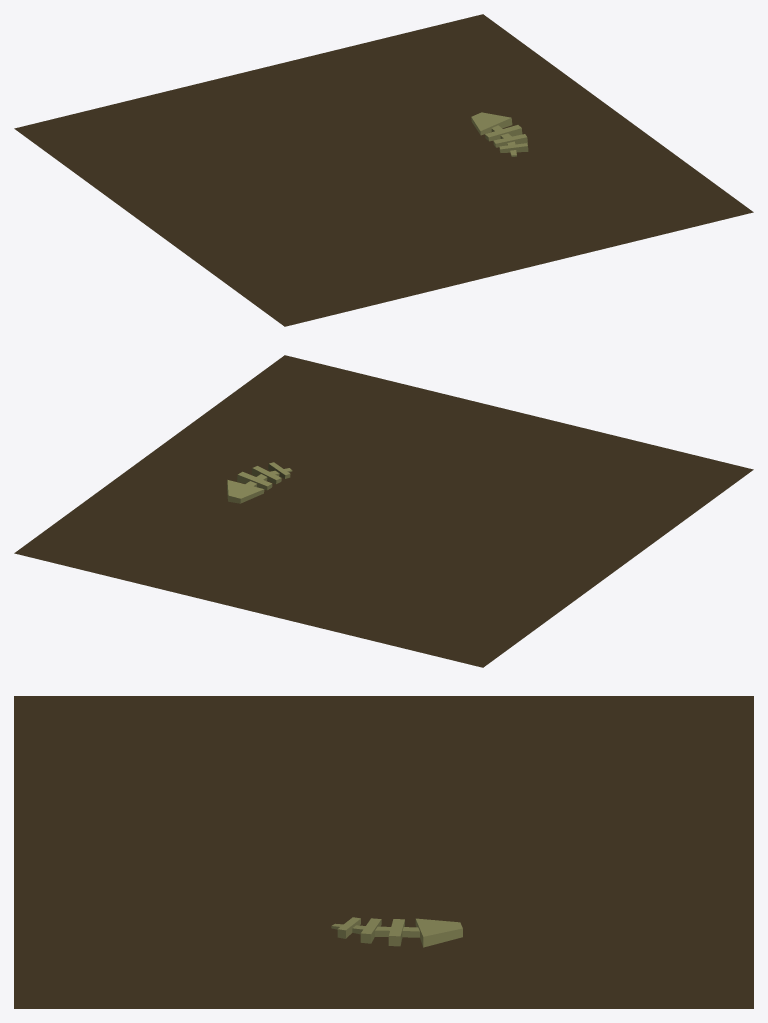
The model's file is Floor.011.fbx.
The picture shows the model from 3 angles, top to bottom: view 1: azimuth 30°, elevation 25°; view 2: azimuth 150°, elevation 25°; view 3: azimuth 270°, elevation 25°; orthographic projection. The views are drawn at different scales.
Visible parts, largest first — view 1: Floor.011; view 2: Floor.011; view 3: Floor.011.
Boxes of the visible parts, bbox=[...] form: Floor.011: bbox=[14, 14, 753, 326]; Floor.011: bbox=[14, 355, 753, 667]; Floor.011: bbox=[14, 696, 753, 1008].
Bounding box in the file's own units: 100 × 2.93 × 100.
